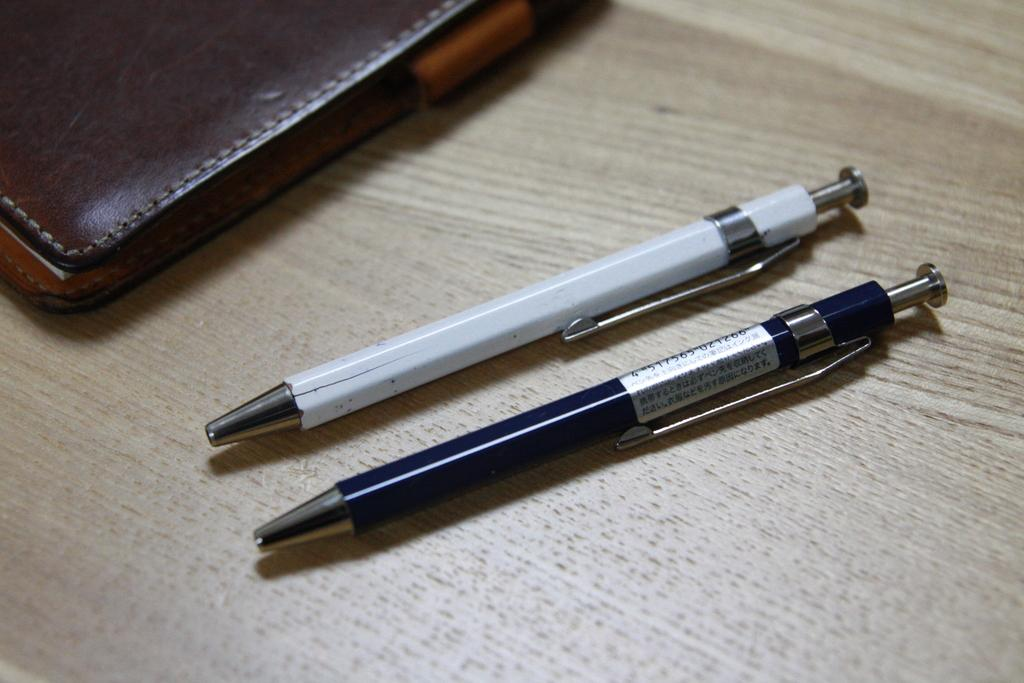Book: (0, 0, 586, 314)
